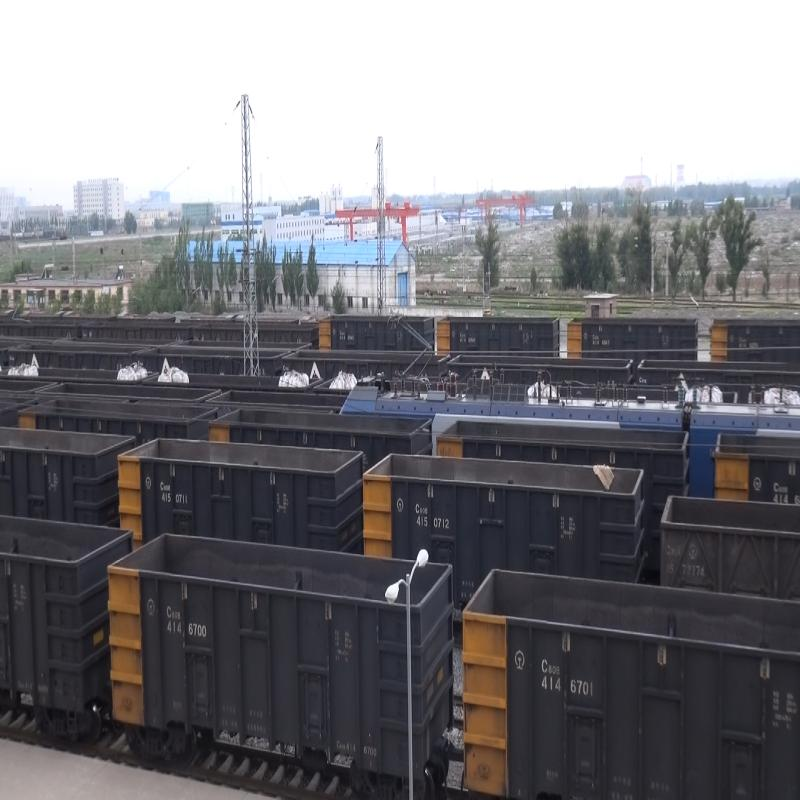train: (121, 527, 431, 781), (380, 451, 646, 608)
